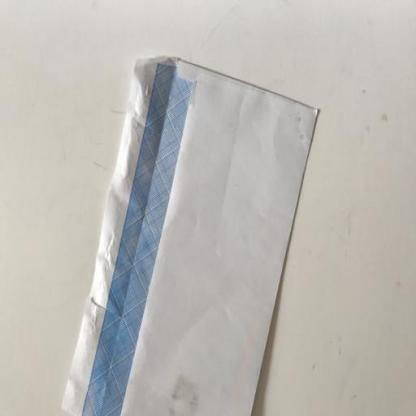trash: (64, 57, 320, 416)
